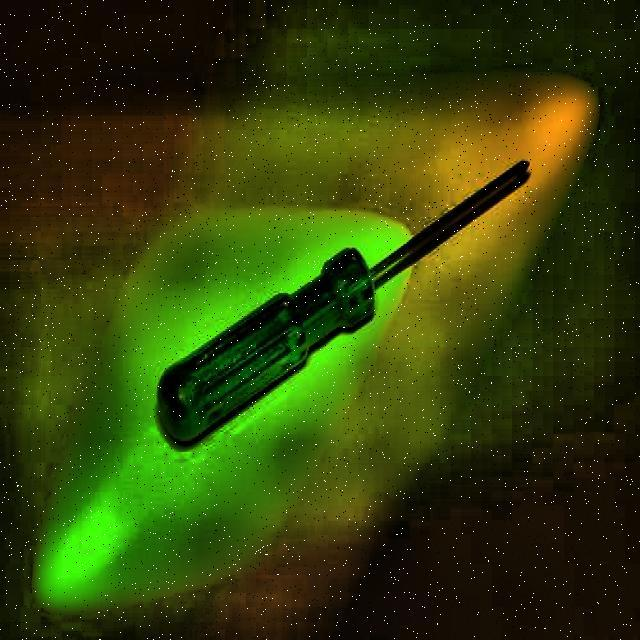screwdriver: (158, 160, 529, 443)
